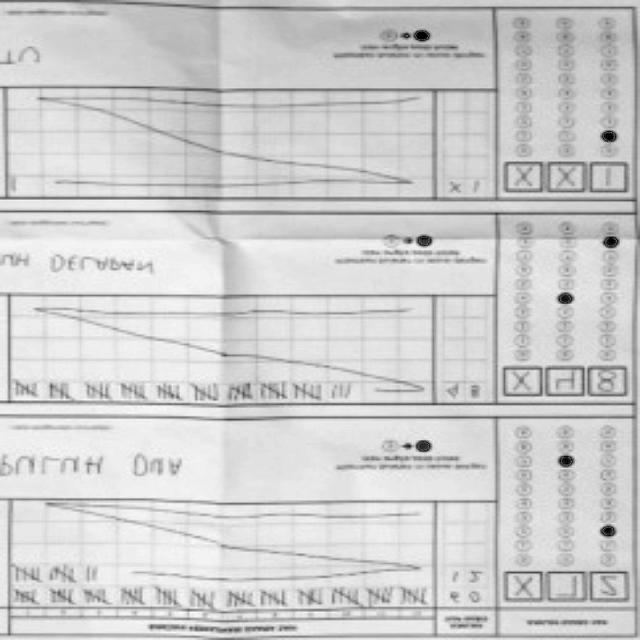Suara: (498, 363, 633, 402), (498, 159, 633, 198), (498, 568, 632, 606)
